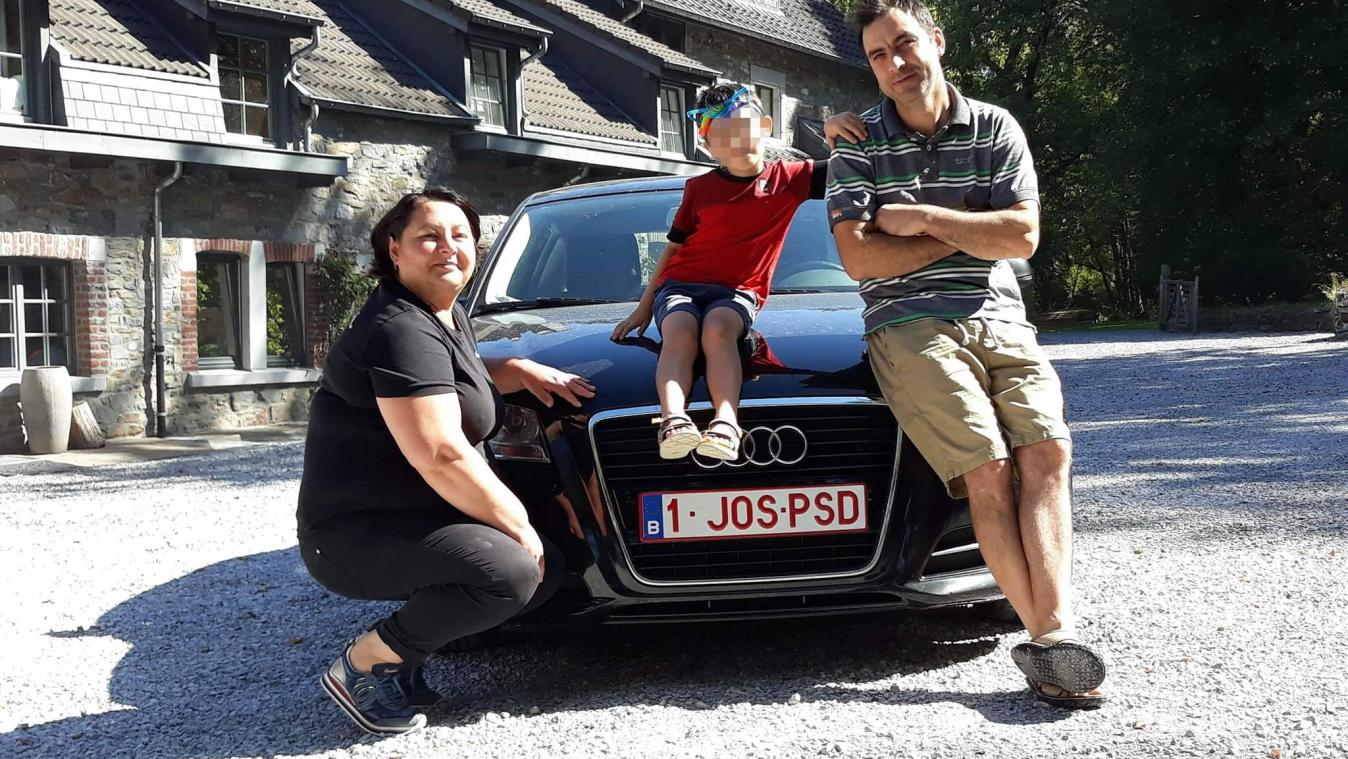licenceplate: (636, 488, 868, 541)
